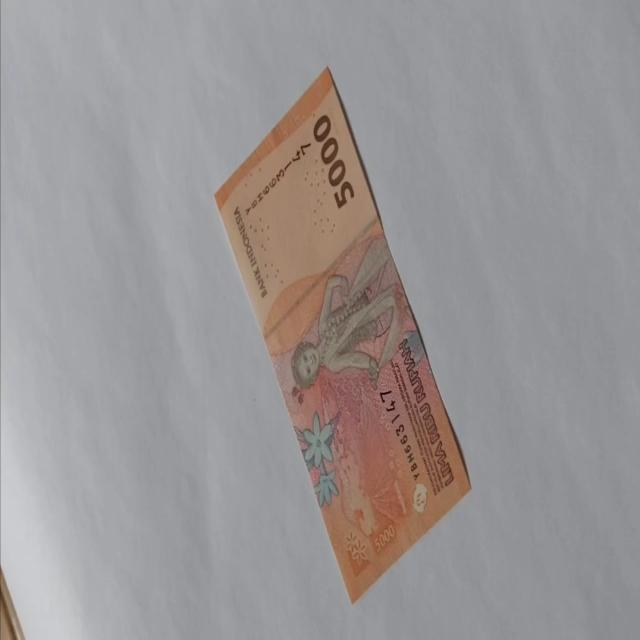lima ribu rupiah: (213, 63, 472, 604)
